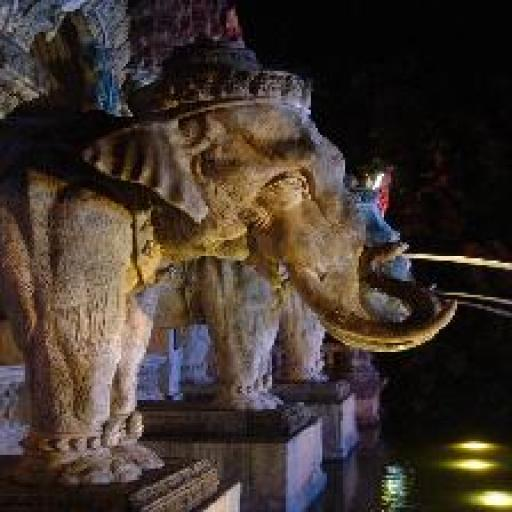Elephant: (0, 46, 464, 493)
